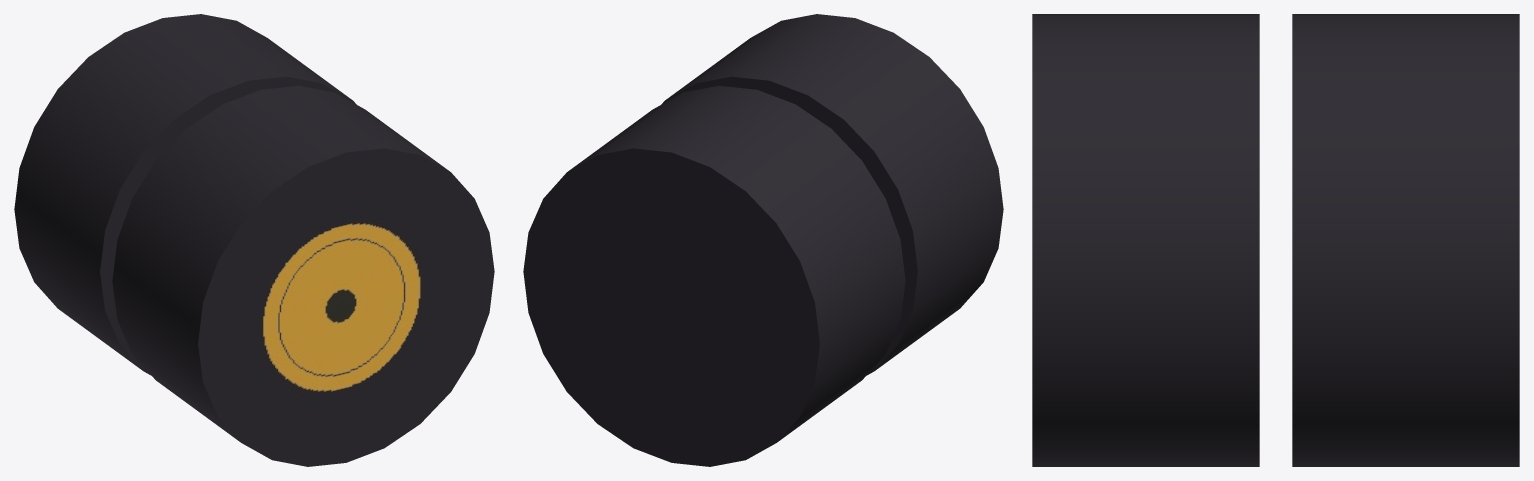
The model's file is crane_wheel.obj.
3 views of the same model, side by side, from view 1: azimuth 30°, elevation 25°; view 2: azimuth 150°, elevation 25°; view 3: azimuth 270°, elevation 25° (orthographic). The views are drawn at different scales.
Visible parts, largest first — view 1: Tire.009_ID554, Tire.026_ID724; view 2: Tire.026_ID724, Tire.009_ID554; view 3: Tire.009_ID554, Tire.026_ID724.
Boxes of the visible parts, <box> form: Tire.009_ID554: <box>112,85,494,466</box>; Tire.026_ID724: <box>14,14,356,375</box>; Tire.026_ID724: <box>523,85,905,466</box>; Tire.009_ID554: <box>661,14,1003,375</box>; Tire.009_ID554: <box>1032,14,1259,466</box>; Tire.026_ID724: <box>1292,14,1519,466</box>.
Size of the model in its own units: 0.1219 by 0.1219 by 0.1307.
